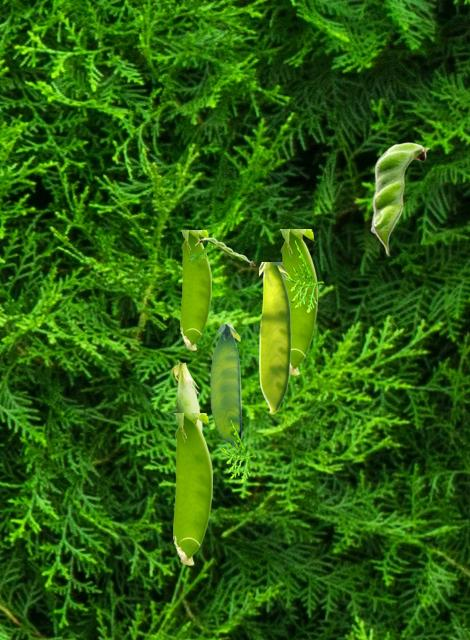pea: (370, 142, 429, 255), (173, 413, 211, 564), (279, 229, 316, 374), (259, 262, 290, 413), (210, 324, 240, 450), (180, 230, 210, 349), (171, 359, 201, 428), (195, 237, 254, 264)
